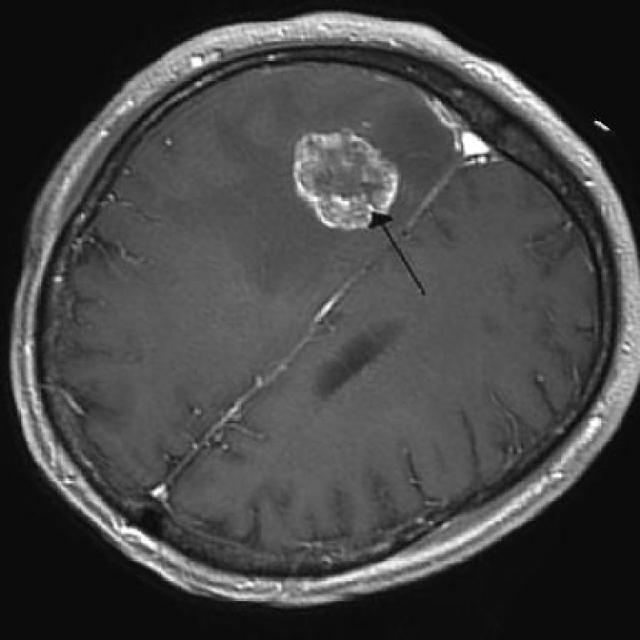Brain-Tumor: (279, 119, 416, 243)
